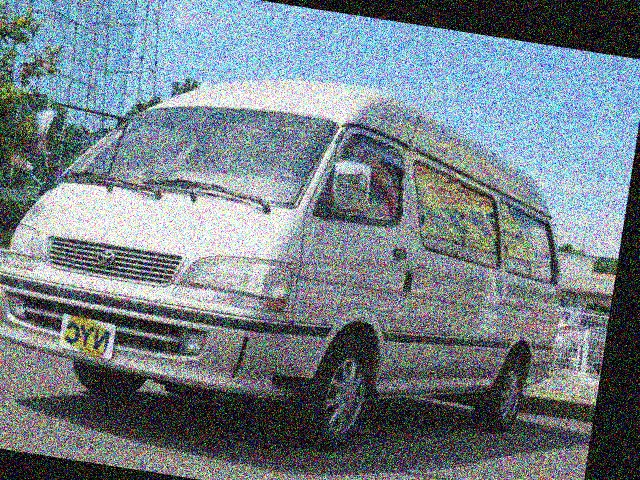van: (0, 41, 589, 462)
